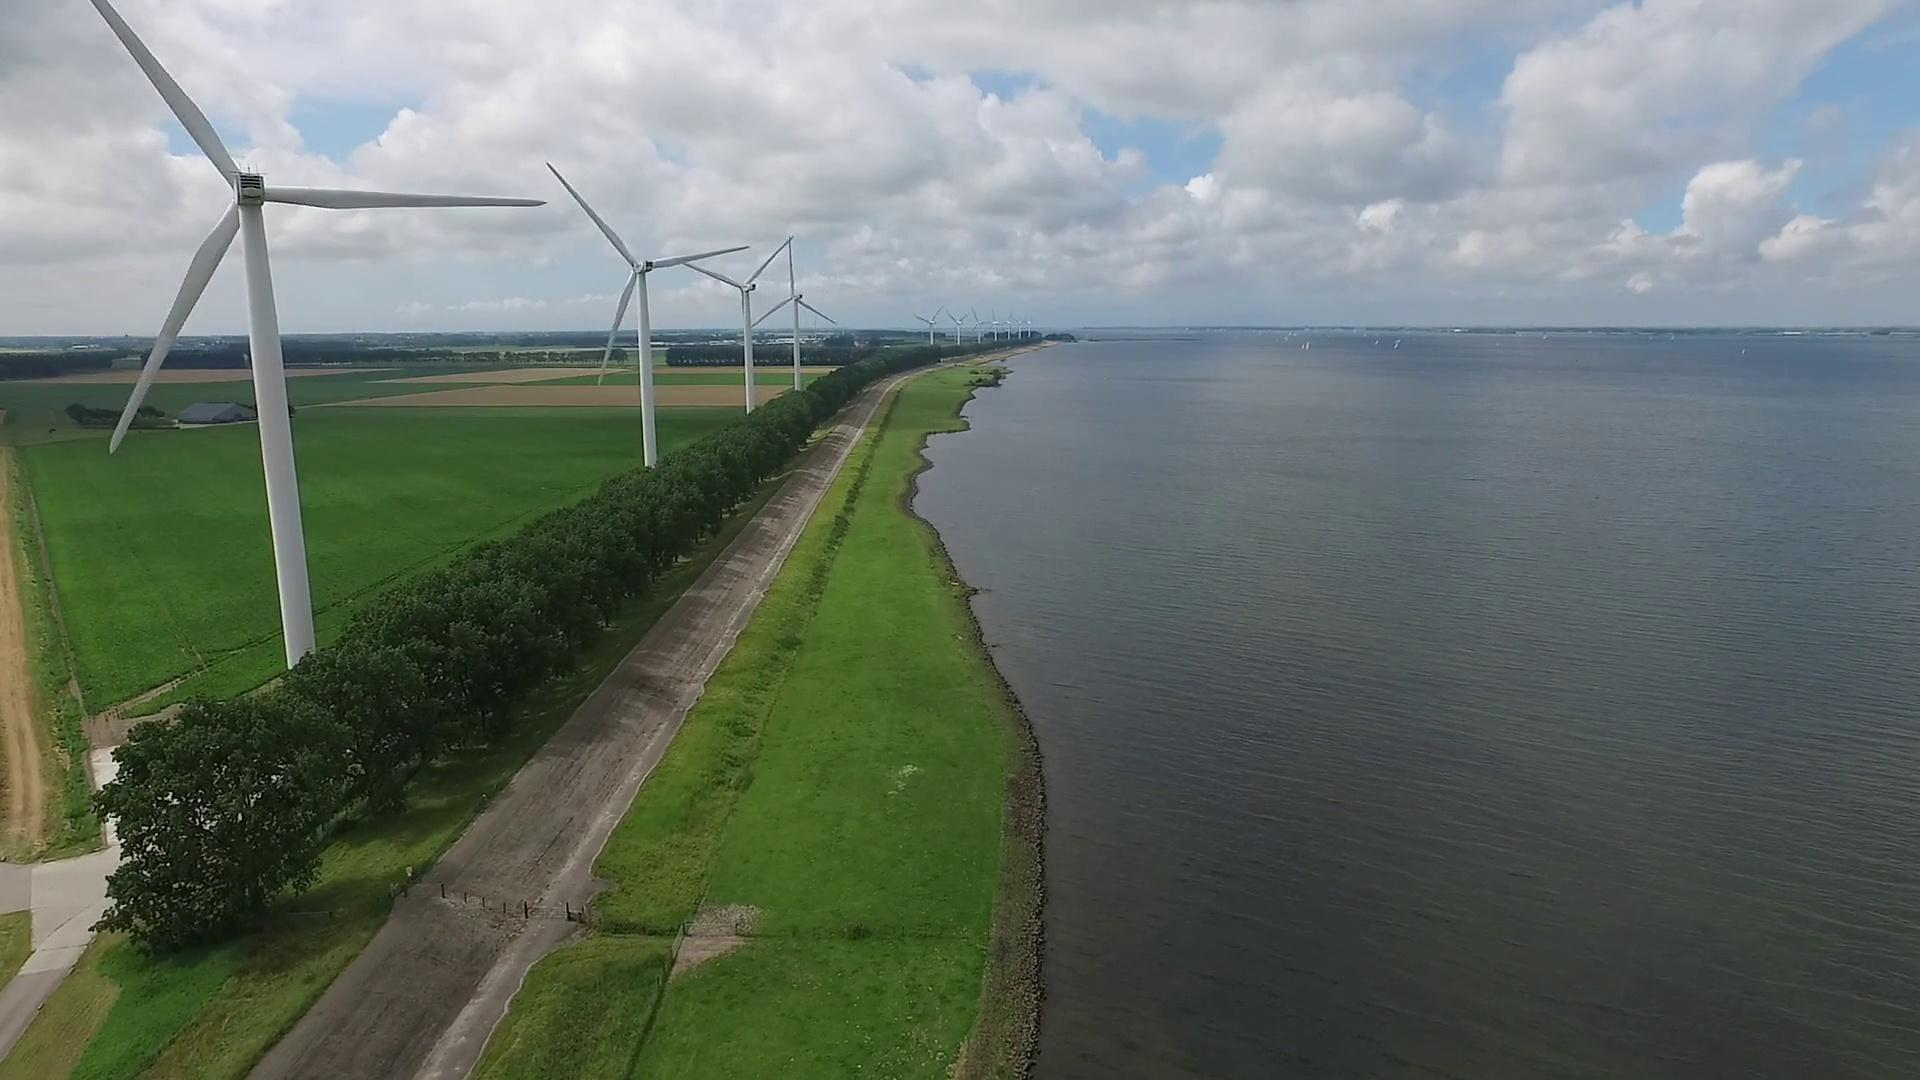turbine: (82, 1, 547, 679), (543, 156, 753, 473), (676, 231, 796, 419), (746, 235, 835, 405), (913, 303, 945, 348), (942, 309, 971, 345), (969, 305, 988, 344), (989, 307, 1002, 342), (1004, 310, 1015, 339), (1025, 311, 1035, 338), (1014, 313, 1025, 338)
